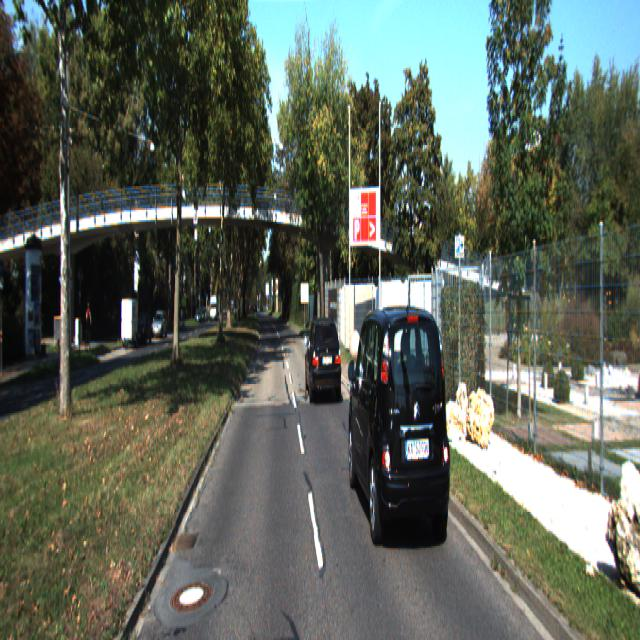Car: (346, 286, 455, 542), (305, 315, 341, 405)
